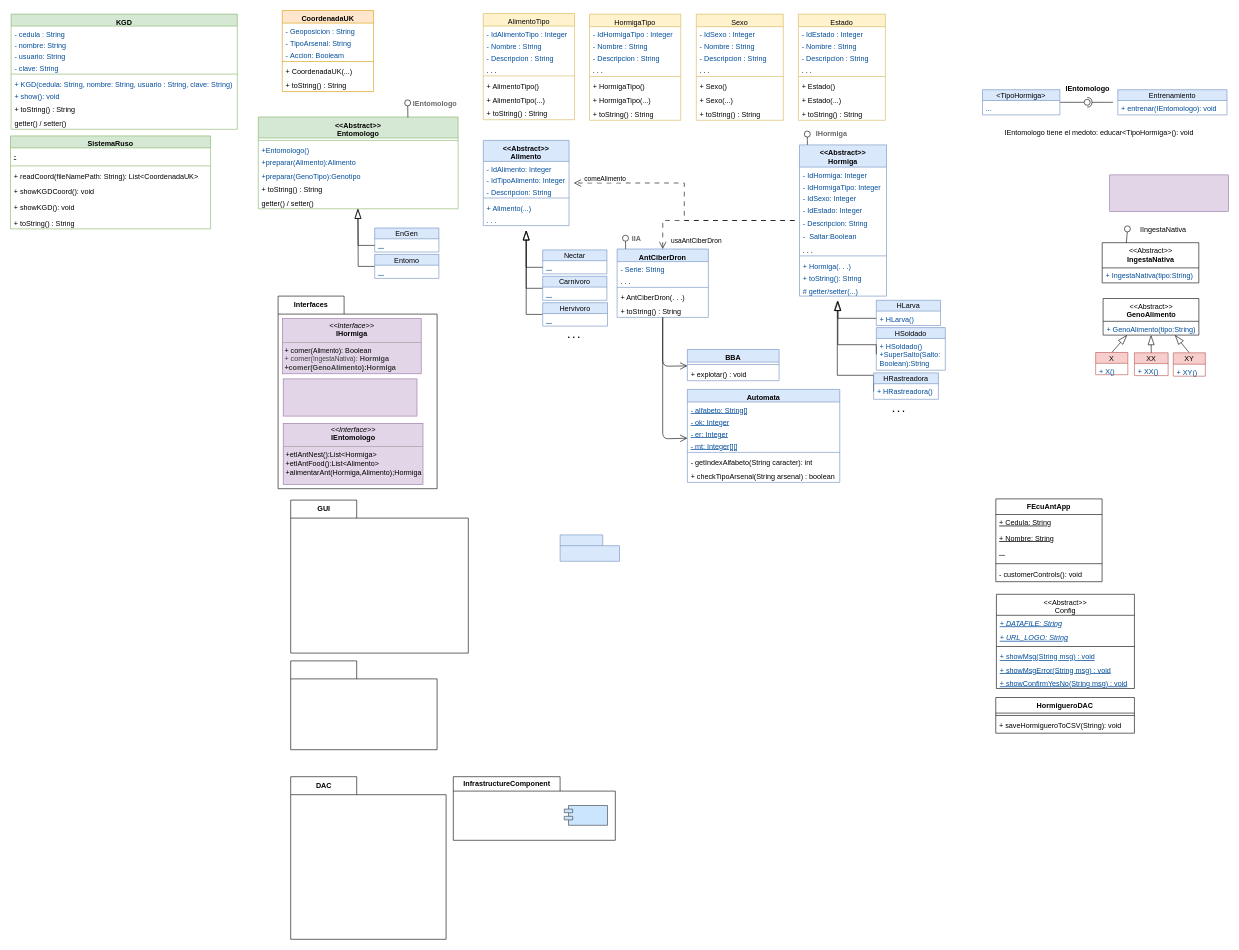
Some shapes in this 1239 by 950 pixel diagram are drawn without their labels. Here are the shapes that lost their labels. From the top down, the centre of each, then its label:
point (1168, 193): <<Interface>> IIngestaNativa + inyectar( GenoAlimento ): boolean
point (350, 397): <<Interface>> IIA + buscar (tipoArsenal : String) : Boolean
point (590, 547): Resource
point (363, 705): BL
point (586, 815): Tools
